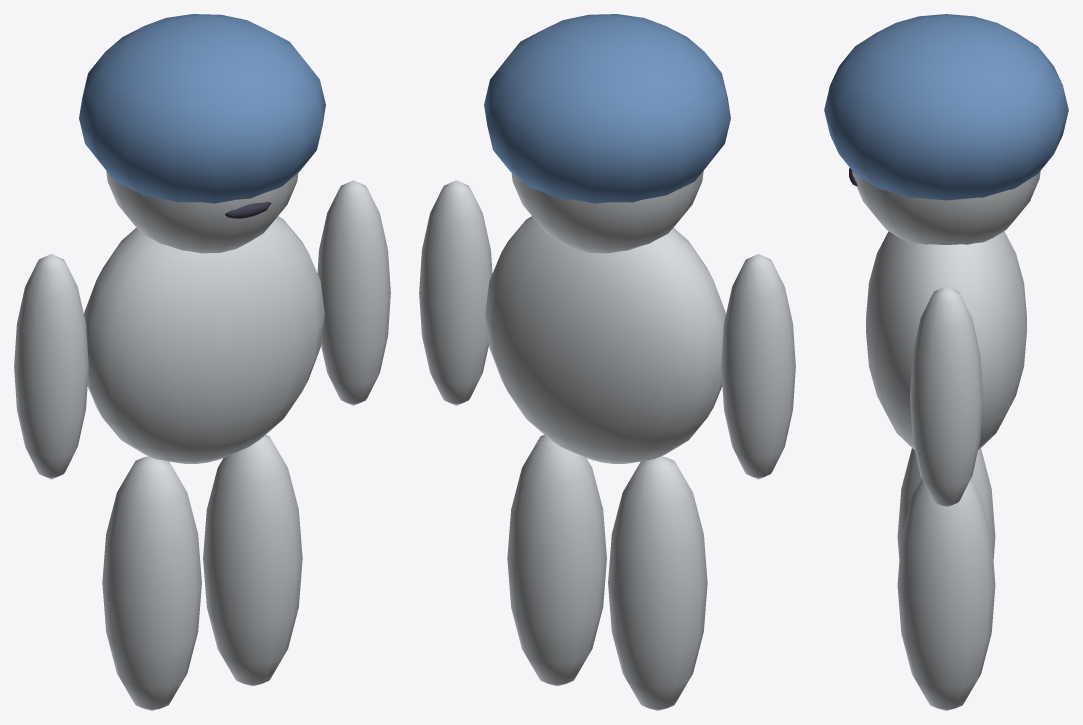
The model's file is astronaut.glb.
3 renders of one model, left to right at view 1: azimuth 30°, elevation 25°; view 2: azimuth 150°, elevation 25°; view 3: azimuth 270°, elevation 25°, orthographic.
Parts seen in each view (by area): view 1: Torso, Helmet, LegLeft, LegRight, ArmLeft, ArmRight, Head; view 2: Torso, Helmet, LegLeft, LegRight, ArmLeft, ArmRight, Head; view 3: Helmet, Torso, LegRight, ArmRight, Head, LegLeft.
Boxes of the visible parts, x1,y1,x2,y2 form: Torso: [84, 216, 324, 463]; Helmet: [79, 14, 325, 203]; LegLeft: [102, 456, 201, 710]; LegRight: [203, 435, 302, 686]; ArmLeft: [14, 254, 88, 479]; ArmRight: [317, 180, 390, 405]; Head: [106, 171, 298, 253]; Torso: [485, 216, 725, 463]; Helmet: [484, 14, 730, 203]; LegLeft: [608, 456, 707, 710]; LegRight: [507, 435, 606, 686]; ArmLeft: [721, 254, 795, 479]; ArmRight: [419, 180, 492, 405]; Head: [511, 171, 703, 253]; Helmet: [824, 14, 1068, 200]; Torso: [866, 231, 1026, 449]; LegRight: [897, 479, 995, 710]; ArmRight: [909, 286, 983, 507]; Head: [852, 171, 1040, 244]; LegLeft: [897, 448, 995, 559].
Size of the model in its own units: 1.02 by 1.78 by 0.6.
